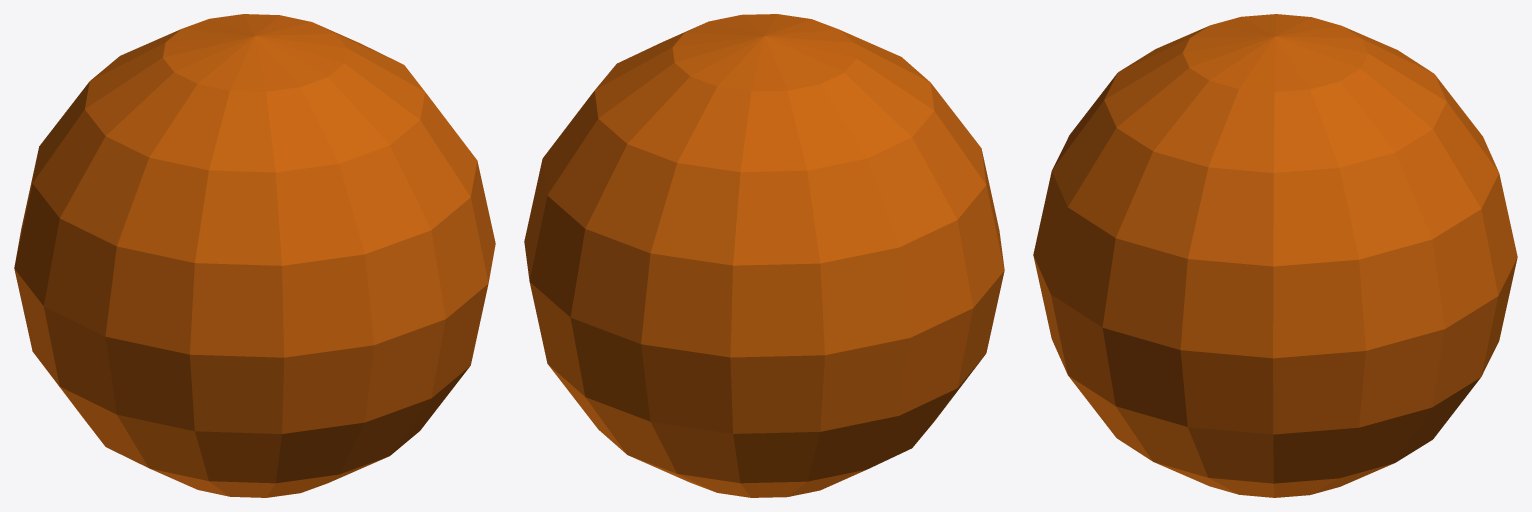
Rendered from Basketball.fbx.
3 renders of one model, left to right at view 1: azimuth 30°, elevation 25°; view 2: azimuth 150°, elevation 25°; view 3: azimuth 270°, elevation 25°, orthographic.
Visible parts, largest first — view 1: Basketball; view 2: Basketball; view 3: Basketball.
Part boxes in pixels (x1=…): Basketball: x1=14, y1=14, x2=495, y2=497; Basketball: x1=524, y1=14, x2=1004, y2=497; Basketball: x1=1033, y1=14, x2=1517, y2=497.
Size of the model in its own units: 46.47 by 46.47 by 46.47.
